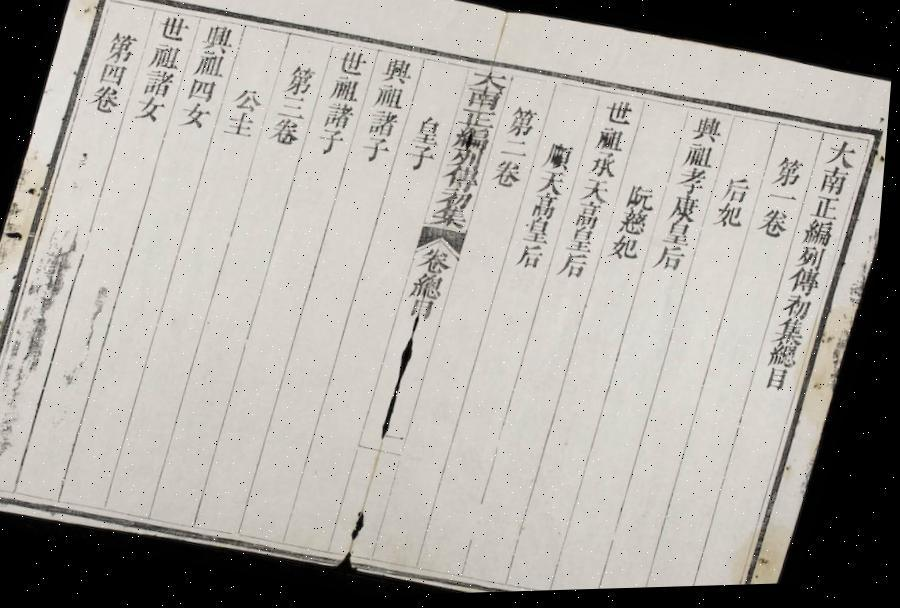c: (772, 156, 812, 196), (505, 104, 544, 144), (452, 124, 497, 158), (441, 163, 486, 197), (282, 62, 321, 101), (102, 28, 142, 66), (86, 81, 126, 118), (758, 208, 798, 245), (378, 55, 419, 90), (824, 140, 865, 175), (155, 12, 195, 47), (690, 115, 730, 150), (412, 272, 453, 306), (139, 66, 180, 100), (364, 109, 405, 143), (419, 247, 461, 280), (462, 86, 508, 116), (543, 140, 580, 177), (268, 116, 307, 151), (491, 159, 530, 194), (146, 40, 186, 74), (674, 168, 714, 202), (198, 22, 238, 56), (789, 268, 829, 302), (802, 220, 842, 254), (320, 100, 360, 134), (775, 319, 816, 352), (432, 204, 477, 234), (412, 114, 449, 150), (721, 175, 759, 210), (177, 100, 216, 134), (818, 168, 857, 202), (222, 109, 262, 142), (610, 235, 650, 268), (654, 245, 694, 278), (682, 143, 722, 176), (335, 47, 373, 81), (602, 98, 640, 132), (626, 182, 664, 216), (618, 208, 656, 242), (132, 94, 170, 128), (714, 202, 752, 236), (670, 194, 708, 228), (469, 68, 514, 96), (404, 144, 442, 177), (328, 75, 366, 108), (580, 177, 618, 210), (594, 126, 632, 159), (371, 83, 410, 115), (587, 152, 626, 184), (516, 243, 553, 276), (230, 84, 268, 116), (662, 221, 700, 253), (566, 227, 604, 259), (573, 202, 611, 234), (522, 218, 560, 250), (358, 136, 396, 168), (810, 196, 848, 228), (536, 170, 574, 202), (192, 50, 230, 82), (446, 147, 491, 174), (769, 344, 808, 375), (456, 108, 502, 134), (530, 193, 567, 225), (314, 127, 351, 159), (784, 296, 822, 327), (436, 188, 479, 215), (276, 93, 313, 124), (185, 75, 222, 106), (559, 253, 596, 284), (95, 58, 132, 88), (797, 247, 834, 276), (500, 137, 536, 165), (768, 369, 800, 399), (410, 298, 444, 325), (768, 191, 804, 213)
